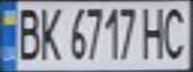1: (103, 3, 121, 60)
6: (63, 3, 87, 61)
7: (118, 4, 142, 60), (84, 4, 106, 60)
B: (9, 3, 45, 62)
C: (160, 3, 193, 61)
H: (136, 3, 172, 61)
K: (33, 3, 63, 62)
